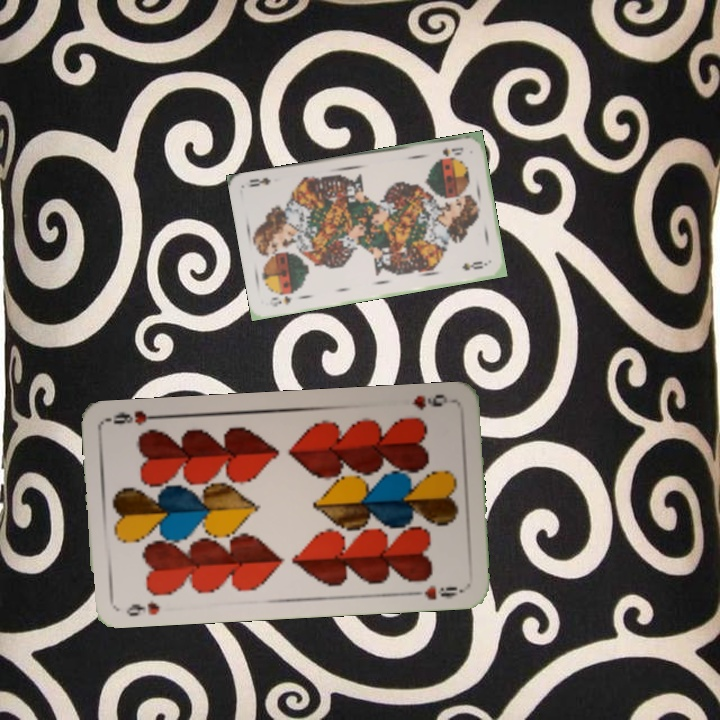H9: (407, 390, 450, 413), (122, 598, 162, 619)
SO: (265, 289, 298, 309), (439, 143, 466, 159)
